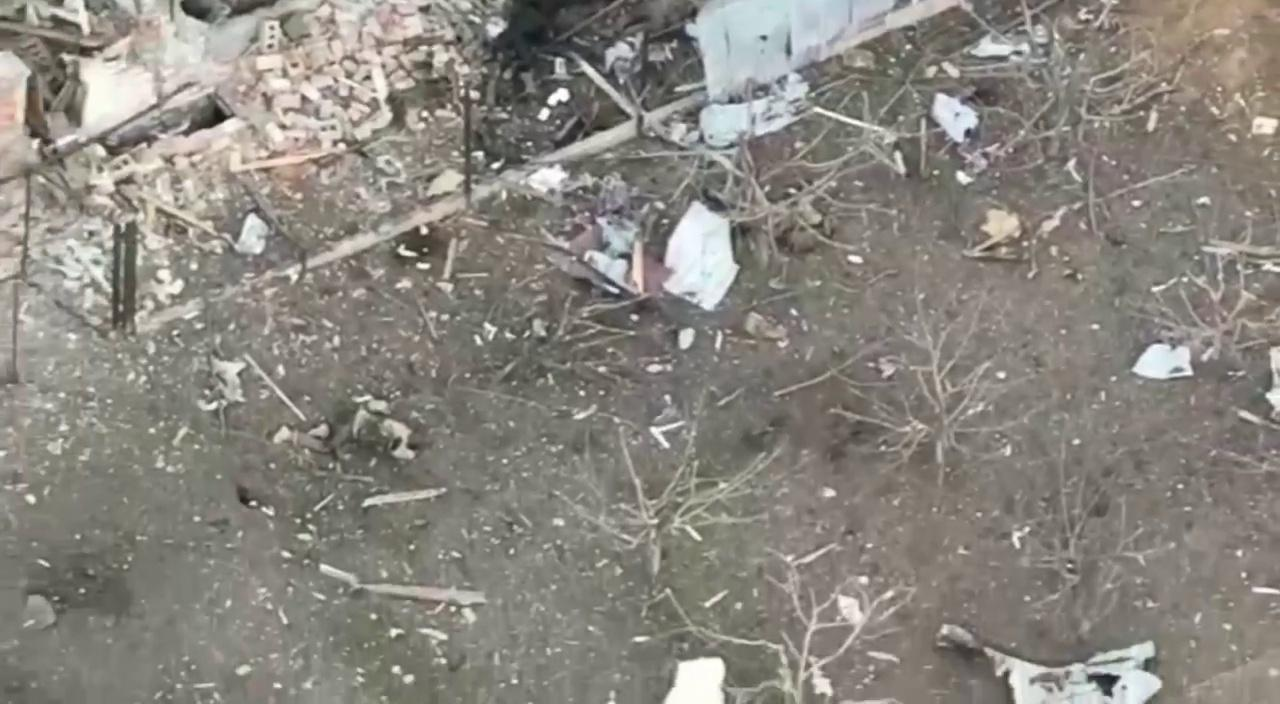person: (268, 411, 426, 462)
